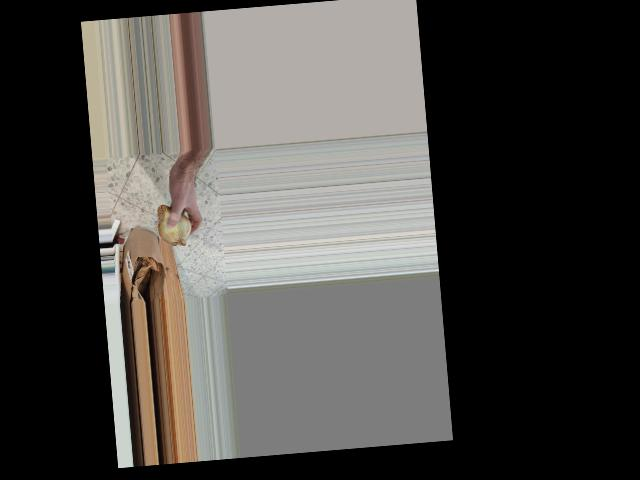onion: (154, 200, 196, 248)
